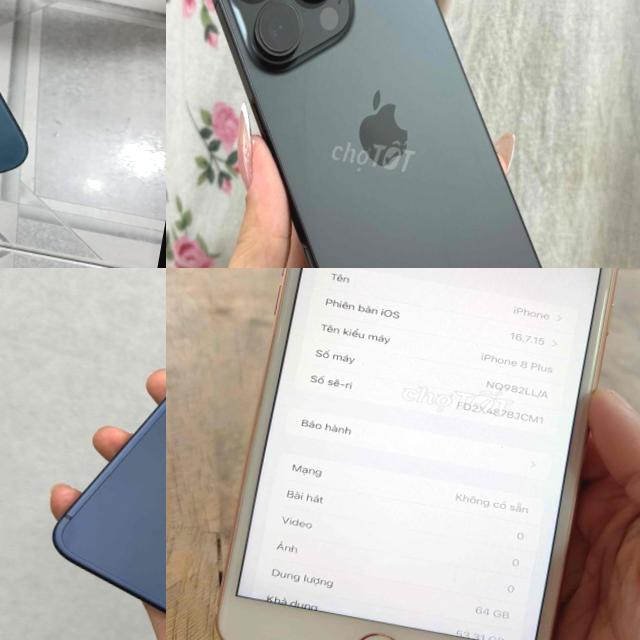scratch: (584, 280, 617, 396)
